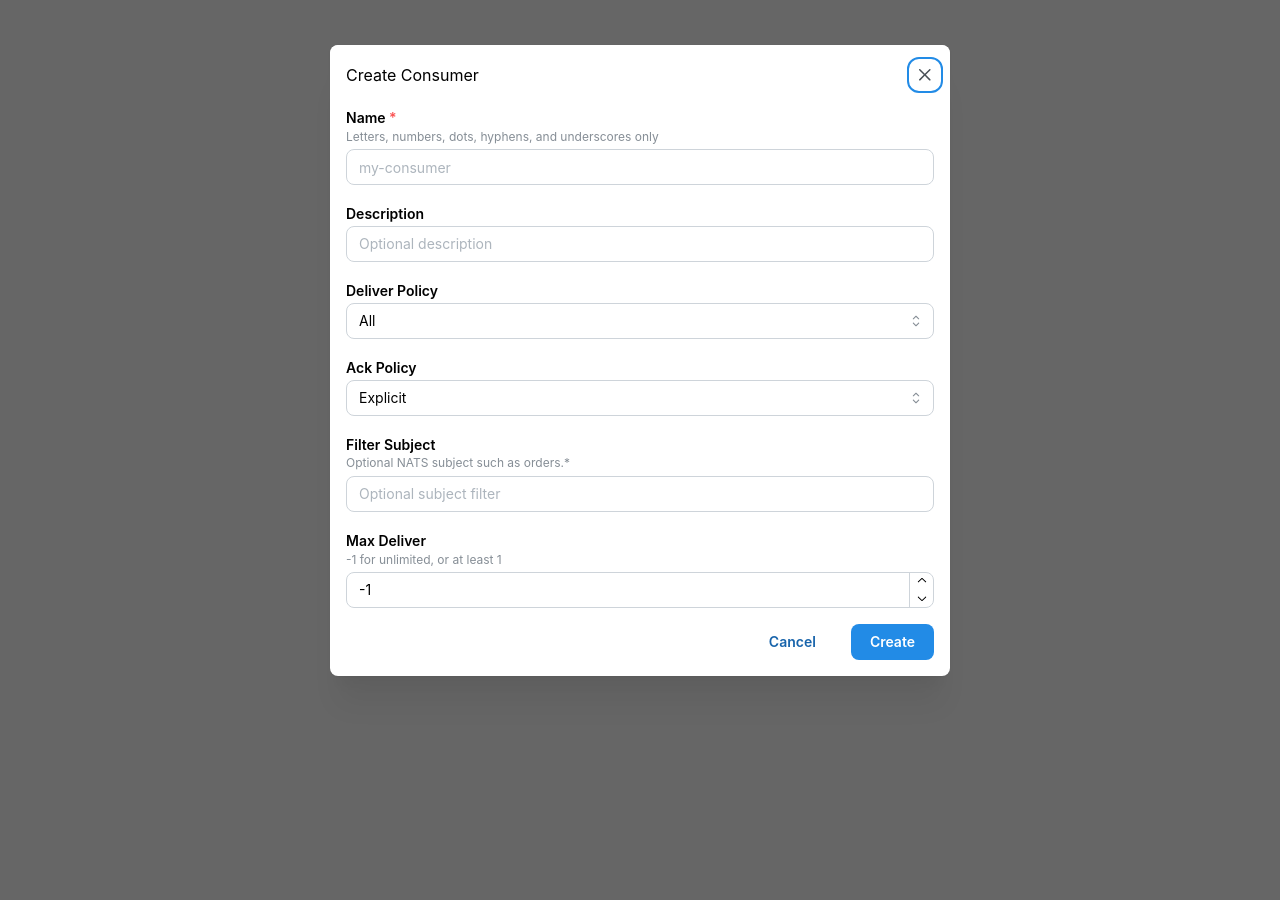
ConsumerForm › validates consumer name and filter subject before submitting
Type "consumer#bad" into the field with placeholder "my-consumer" at (640, 167), box [346,149,934,185]
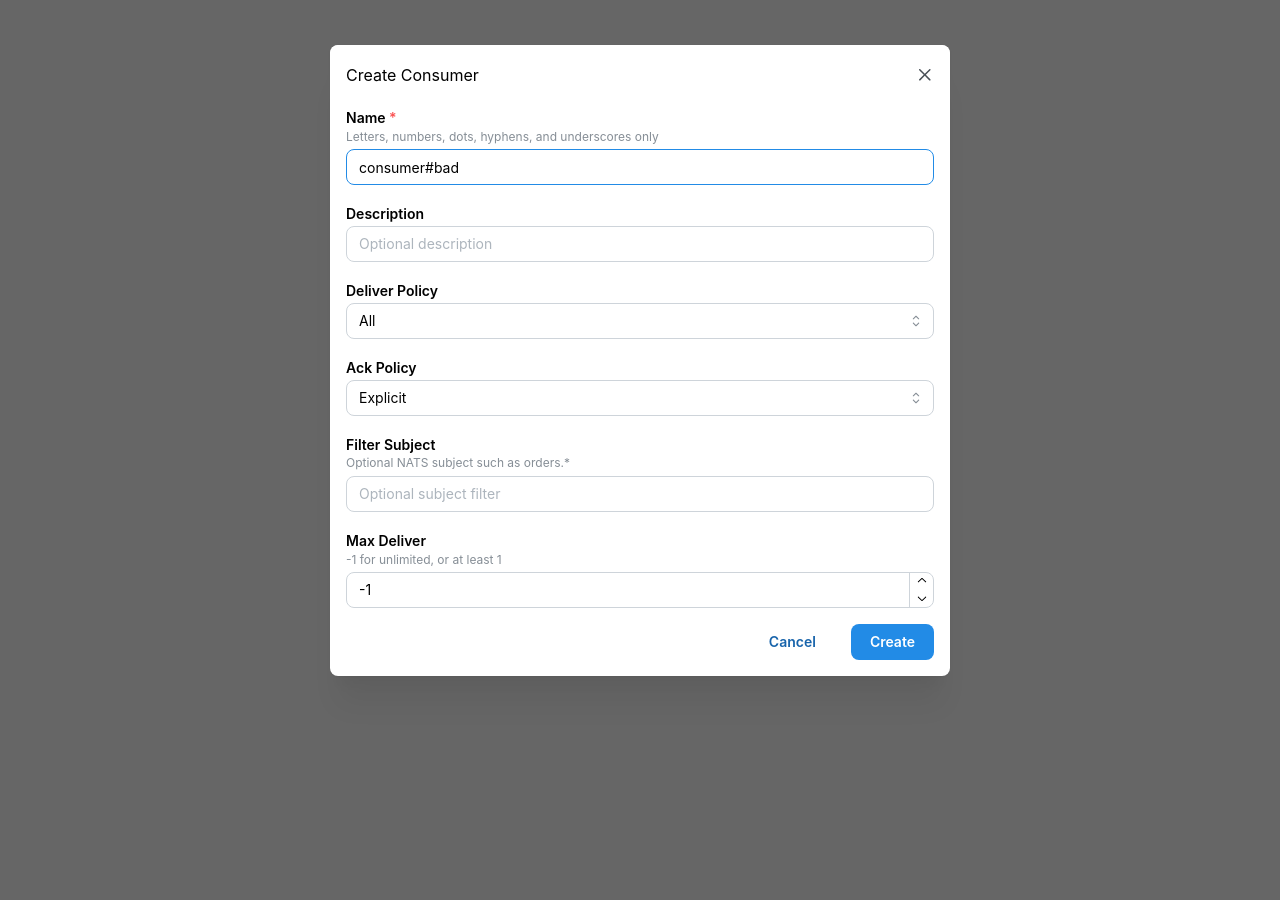
Type "orders with spaces" into the field with placeholder "Optional subject filter" at (640, 494), box [346,476,934,512]
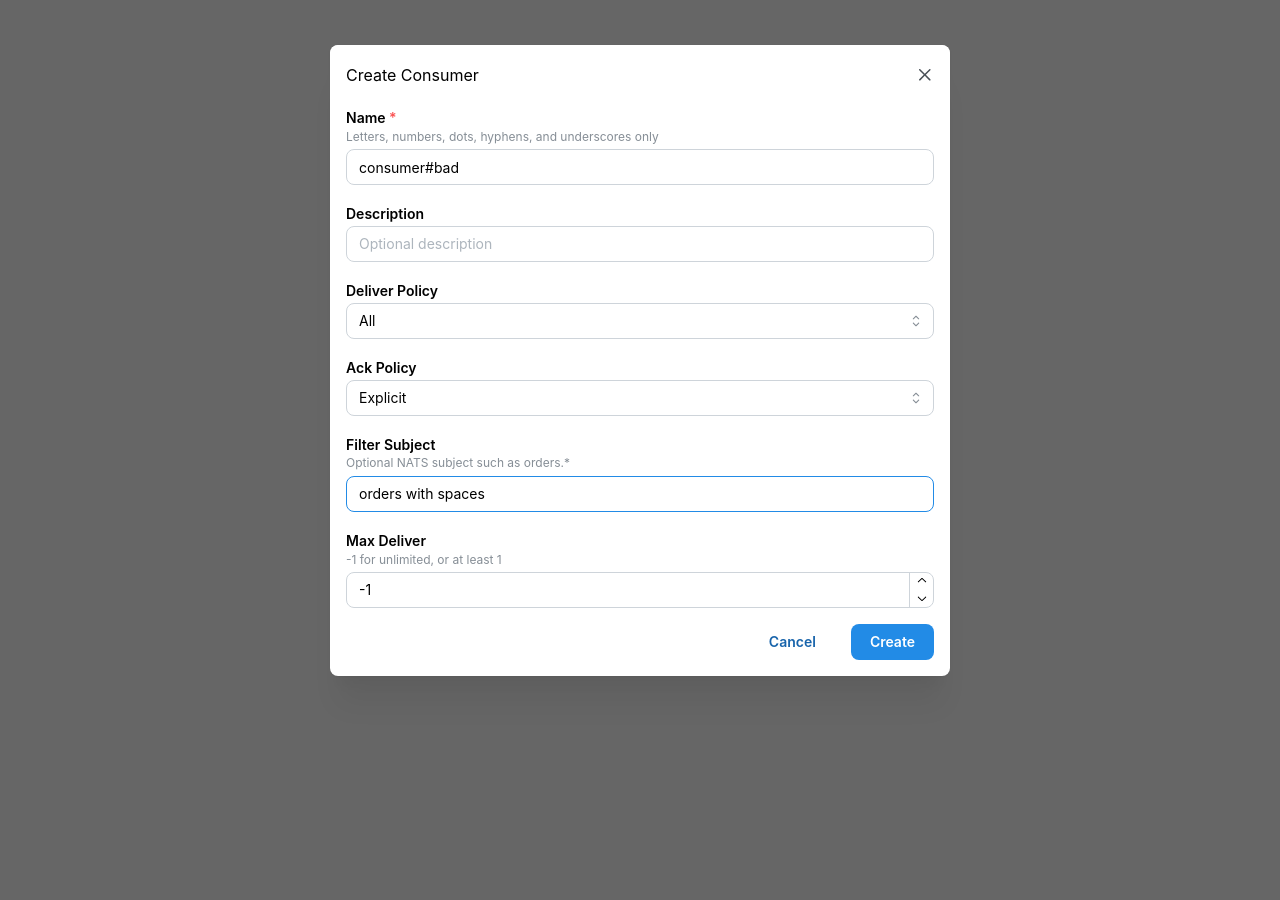
Click the button "Create" at (892, 642), box [851,624,934,660]
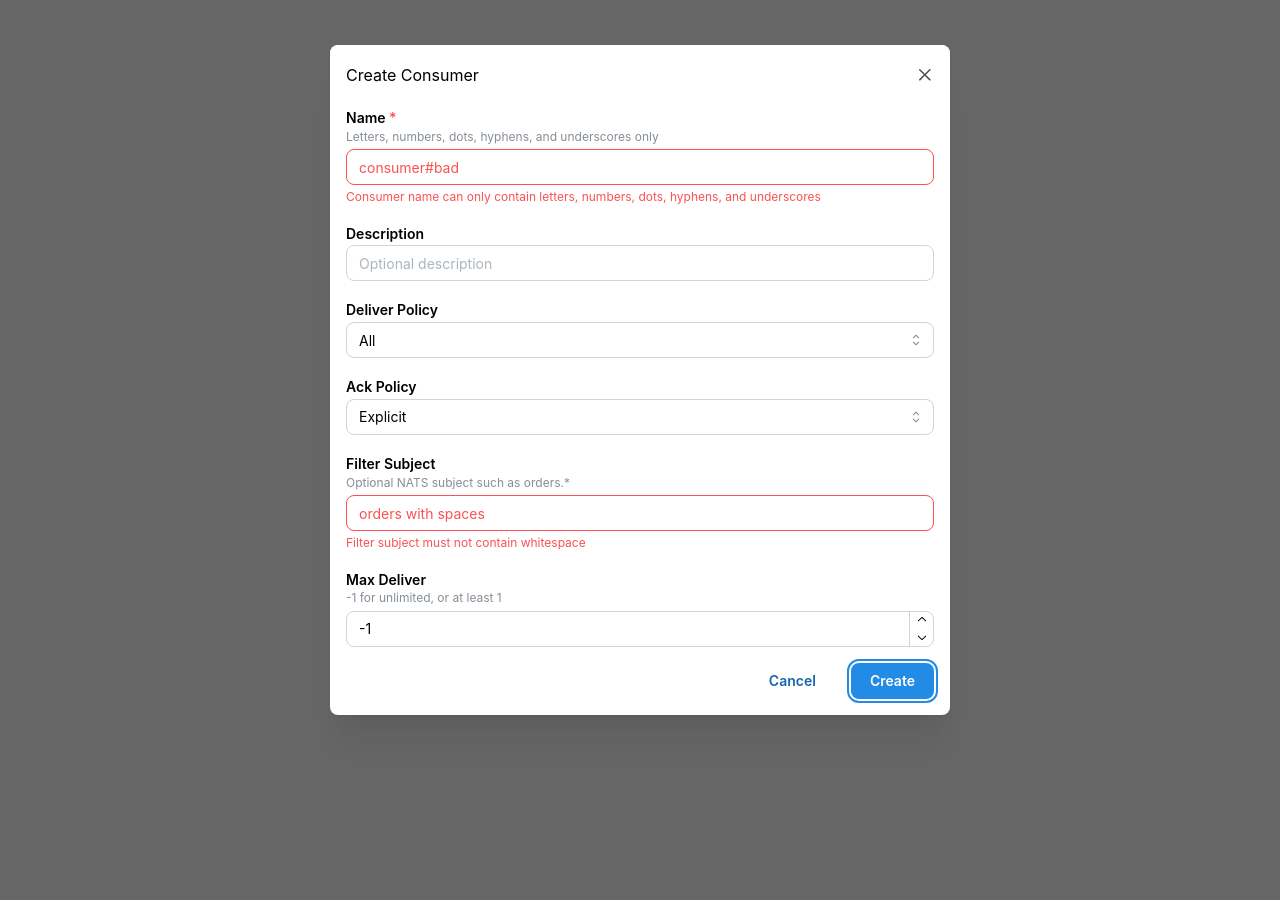
Result: the text "Consumer name can only contain letters, numbers, dots, hyphens, and underscores" is shown at [346,189,821,204]
Result: the text "Filter subject must not contain whitespace" is shown at [346,535,586,550]
